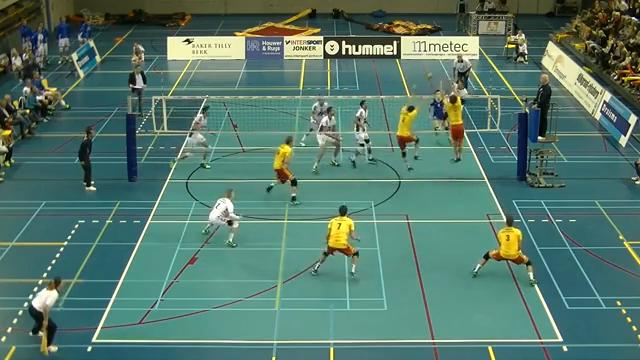Attack: (449, 73, 470, 110)
Block: (388, 80, 429, 179), (437, 76, 470, 168)
Player: (472, 215, 536, 285), (311, 205, 358, 276), (266, 136, 299, 204), (202, 189, 239, 247), (312, 107, 340, 173), (350, 100, 374, 167), (186, 105, 209, 168), (300, 98, 328, 146), (430, 90, 447, 134)
ball: (426, 72, 433, 78)
